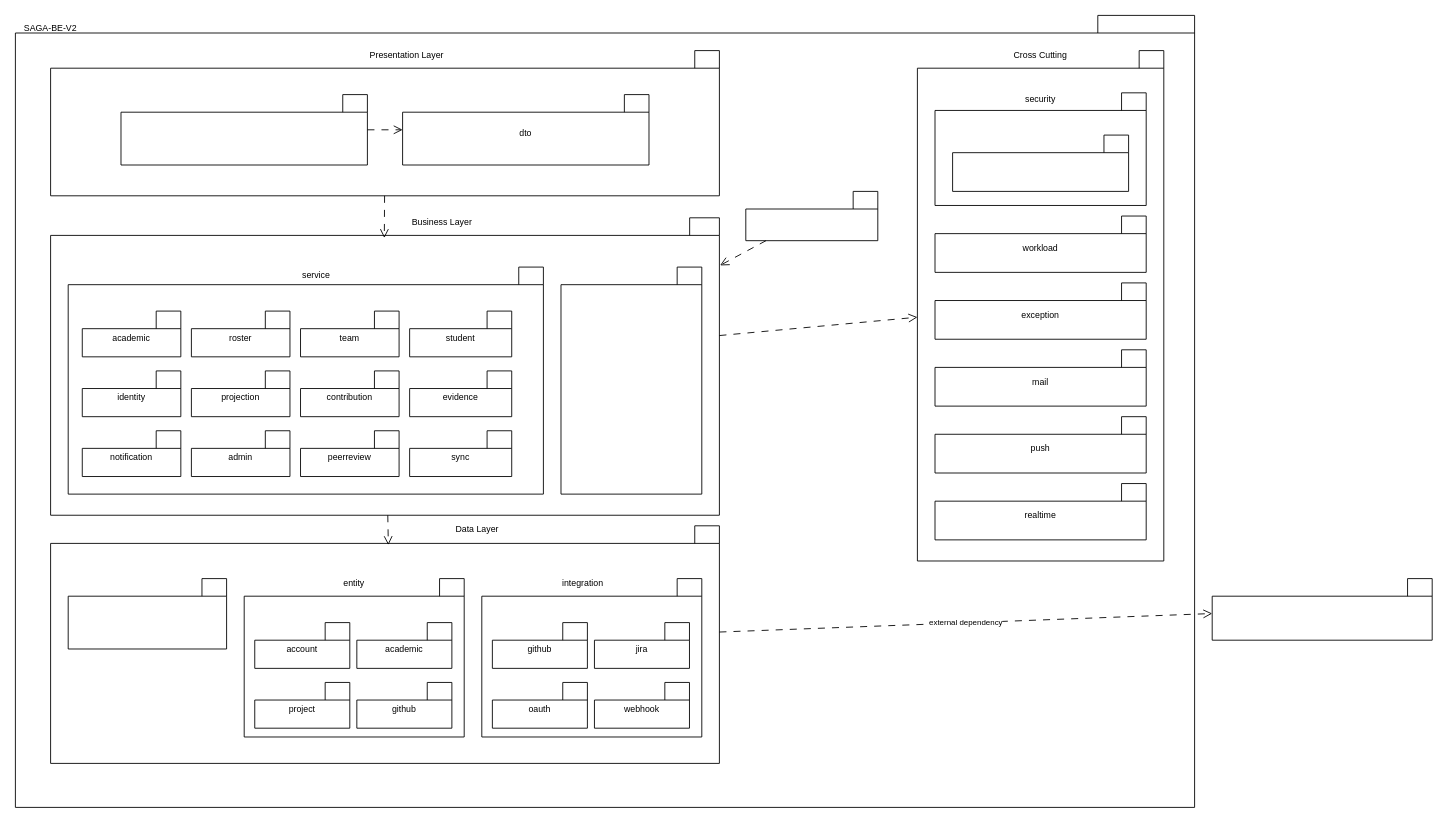
Image size: 1448x823. Some labels were removed from this diagram. Each missing label, with the centre of its shape:
auth: (x=1040, y=162)
controller: (x=243, y=129)
graph: (x=631, y=380)
repository: (x=147, y=613)
scheduler: (x=811, y=216)
«external» External Services: (x=1321, y=609)
